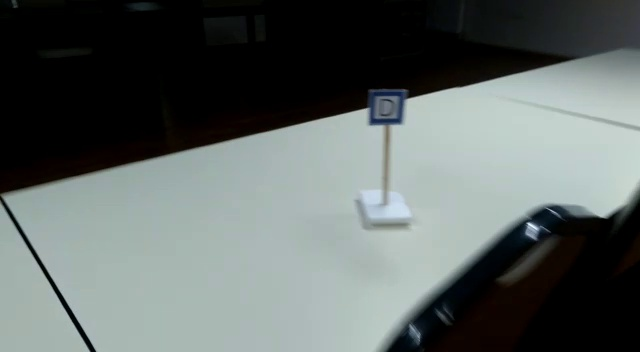durak: (370, 89, 405, 122)
